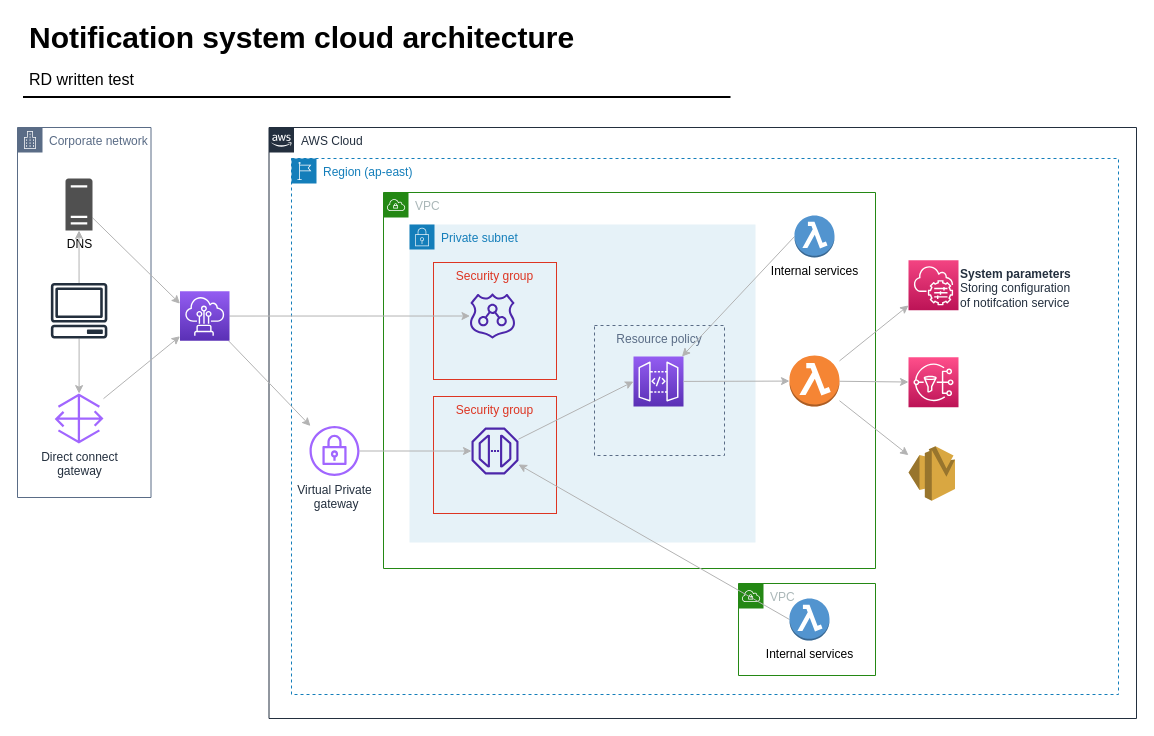
The diagram is 1154 pixels wide and 736 high, and some of its shapes have lost their labels. The centre of each missing label's shape, as x and y in pixels:
API Gateway (private): the point at 658,381
Direct Connect: the point at 204,315
Notifcation Service: the point at 814,380
On-prem services: the point at 78,310
Route 53 resolver: the point at 492,315
SES Sending email: the point at 931,473
SNS Sending SMS and Mobile Push notification: the point at 933,381
VPC endpoint: the point at 494,450
